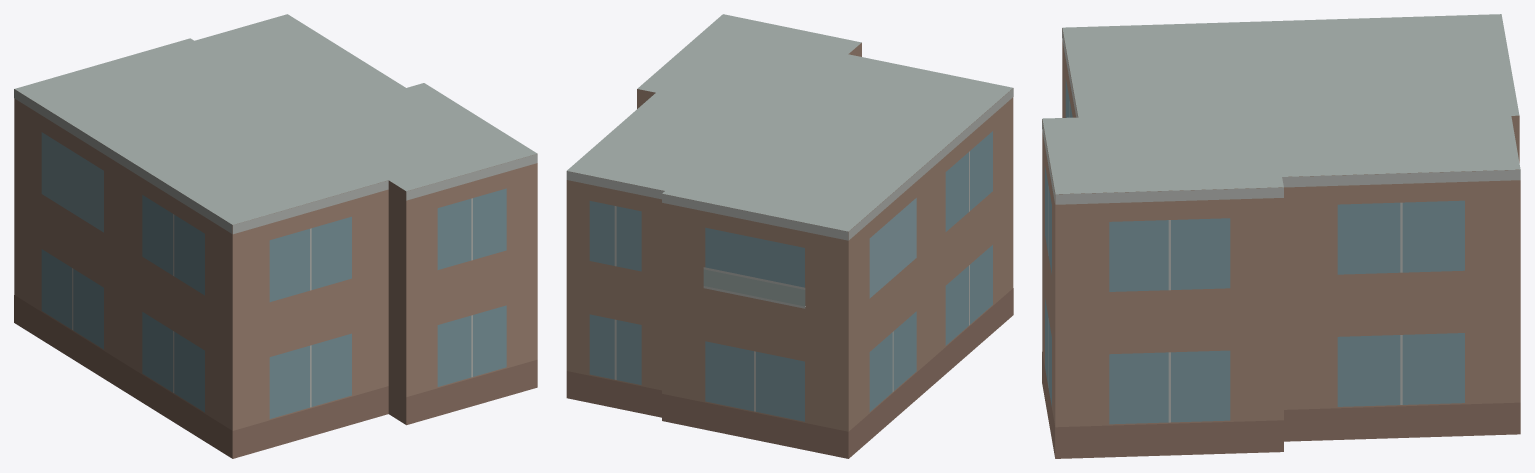
The model's file is survey-upis-32829897.glb.
The picture shows the model from 3 angles, left to right: view 1: azimuth 30°, elevation 25°; view 2: azimuth 150°, elevation 25°; view 3: azimuth 270°, elevation 25°; orthographic projection. The views are drawn at different scales.
Visible parts, largest first — view 1: survey-upis-32829897.tmp; view 2: survey-upis-32829897.tmp; view 3: survey-upis-32829897.tmp.
Part boxes in pixels (bbox=[...]): survey-upis-32829897.tmp: bbox=[14, 14, 537, 458]; survey-upis-32829897.tmp: bbox=[566, 14, 1013, 458]; survey-upis-32829897.tmp: bbox=[1042, 14, 1520, 458].
Size of the model in its own units: 8.92 by 6.1 by 10.
